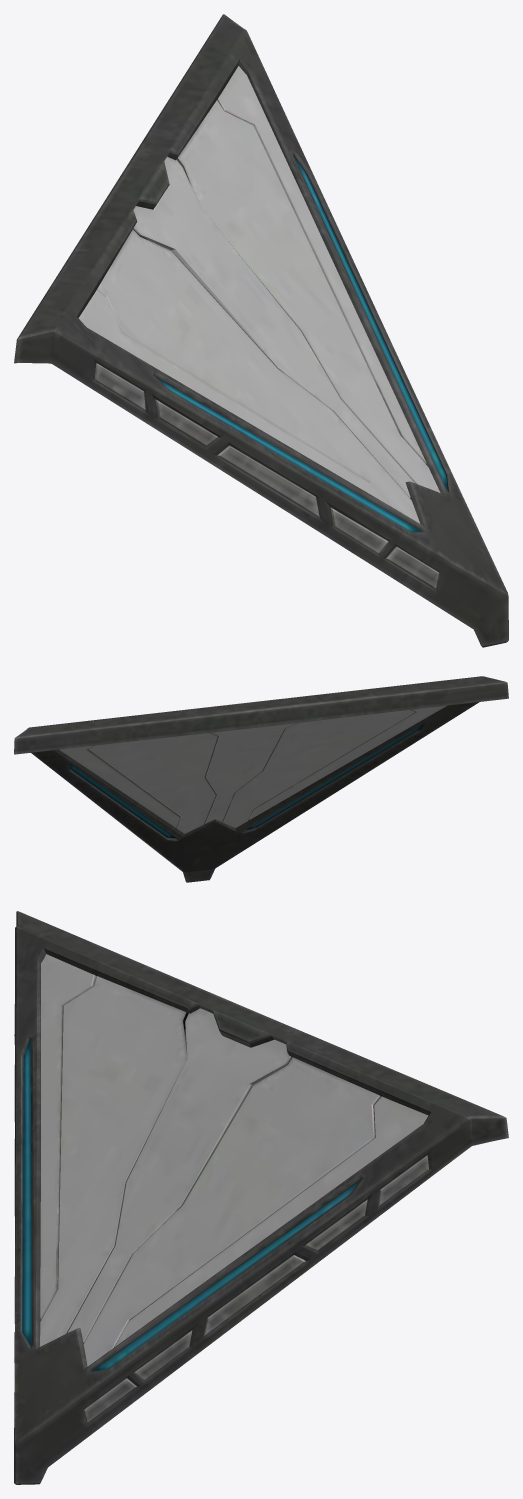
File: SM_SlopeRoofCornerReverse_Ancient_df347f.glb
3 renders of one model, top to bottom at view 1: azimuth 30°, elevation 25°; view 2: azimuth 150°, elevation 25°; view 3: azimuth 270°, elevation 25°, orthographic. The views are drawn at different scales.
Size of the model in its own units: 4.04 by 3.31 by 4.04.
Materials: 1 (1 with a texture image).
